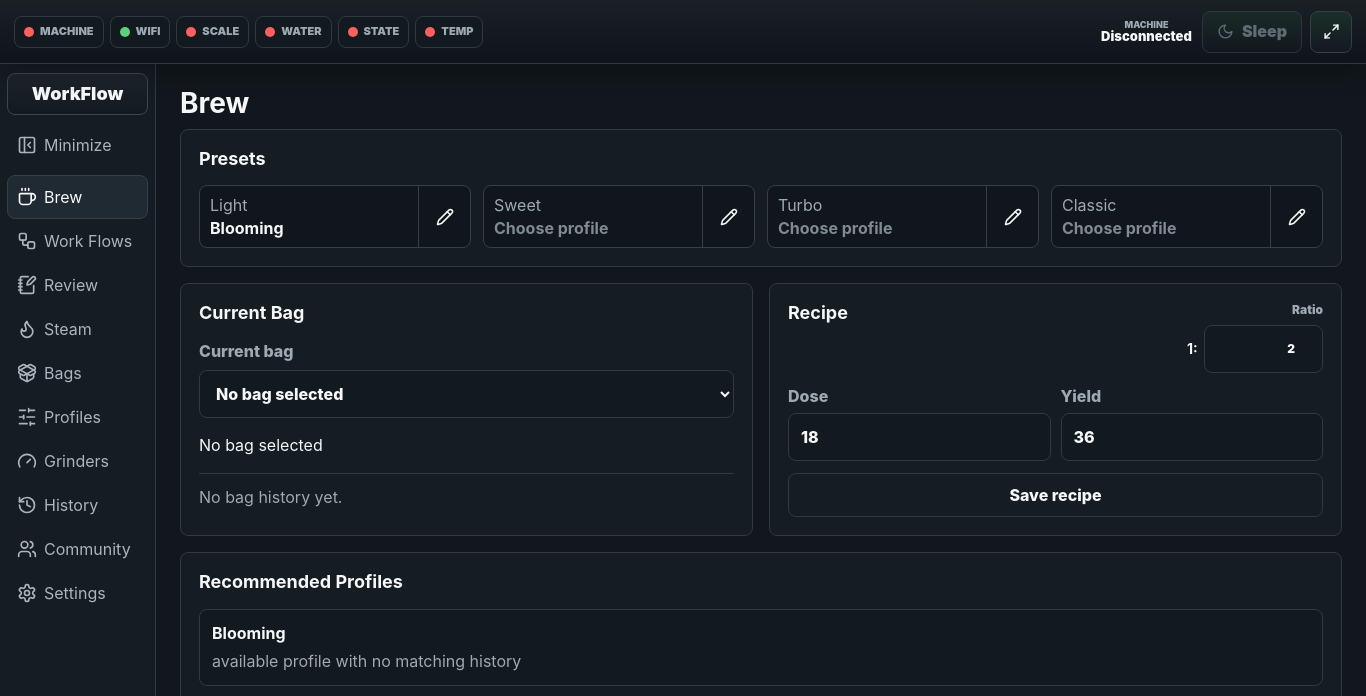
Test case: App shell › shows community offline state when the Worker cannot be reached
Click the button "Community". click: [78, 549]
box: 7,527 -> 148,571
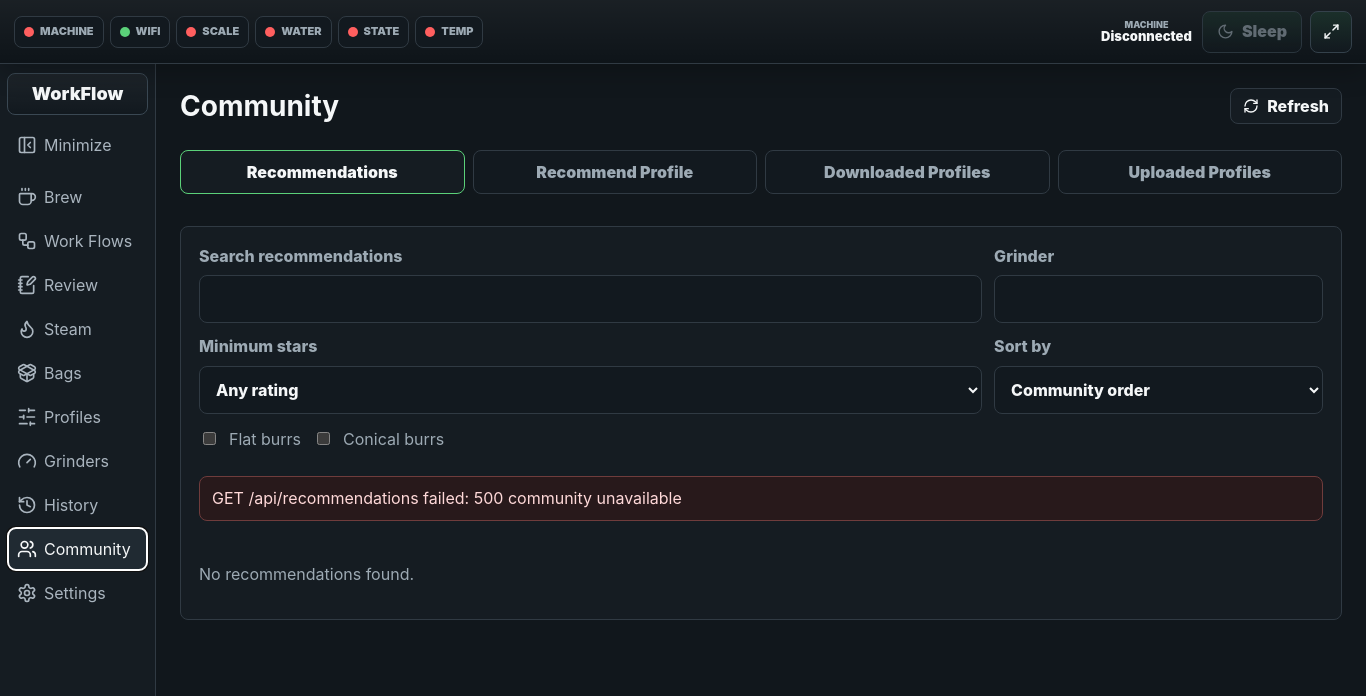
Expected: the message shows "GET /api/recommendations failed: 500", 212,488 -> 682,508
